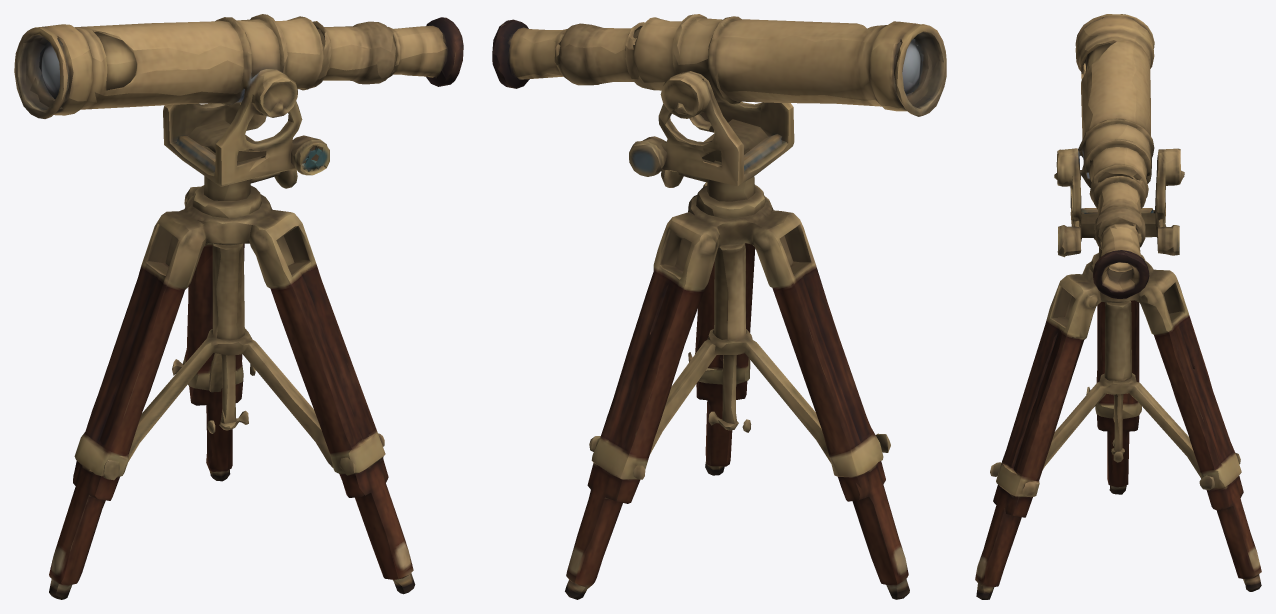
The model's file is telescope.glb.
3 renders of one model, left to right at view 1: azimuth 30°, elevation 25°; view 2: azimuth 150°, elevation 25°; view 3: azimuth 270°, elevation 25°, orthographic. The views are drawn at different scales.
Visible parts, largest first — view 1: world; view 2: world; view 3: world.
Part boxes in pixels (<box>): world: <box>14,14,463,599</box>; world: <box>492,14,946,599</box>; world: <box>975,14,1261,599</box>.
Size of the model in its own units: 0.5826 by 0.7489 by 0.4117.
1 material, 1 textured.
